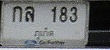txt01: (11, 5, 23, 23)
txt31: (24, 5, 35, 23)
